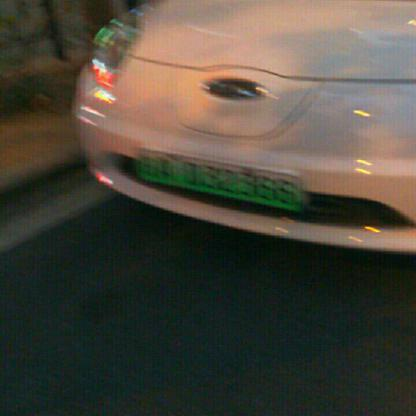lp: (139, 148, 298, 211)
